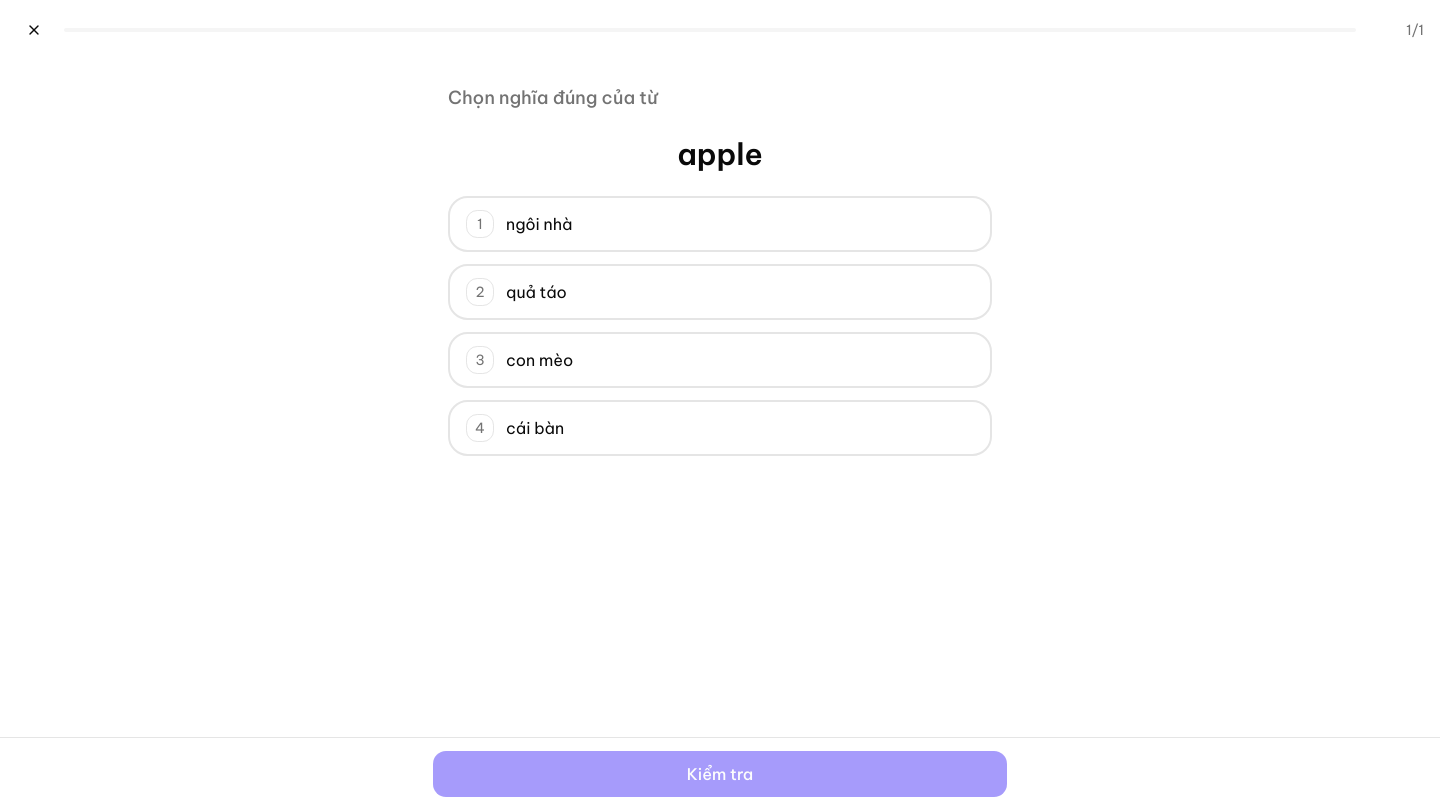
finishing › plays the wrong sound and keeps the right answer on screen
The width and height of the screenshot is (1440, 810).
Click the radio button labelled "3 con mèo". click: (540, 360)
box: x1=448 y1=332 x2=992 y2=388
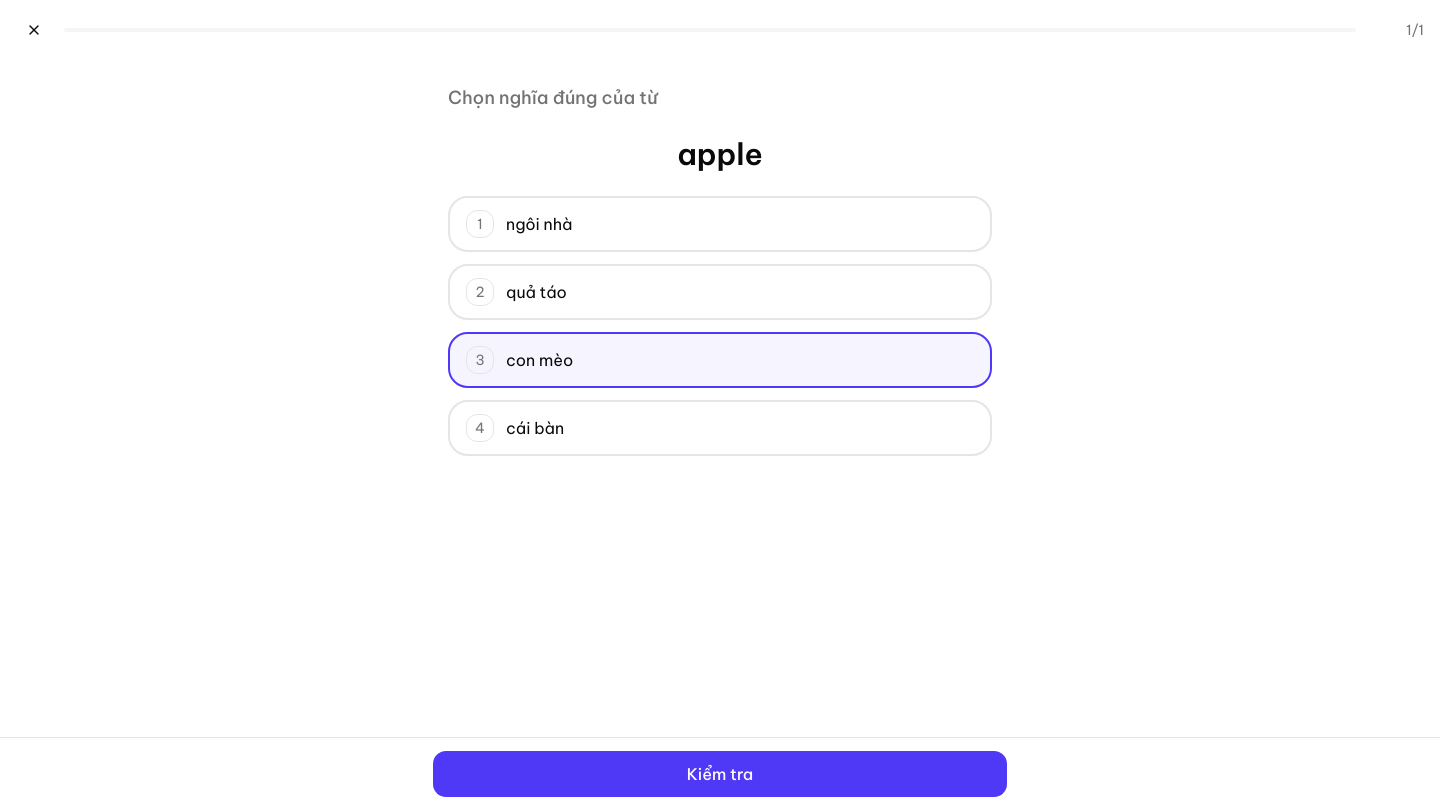
Click the button "Kiểm tra". click: (720, 774)
box: x1=432 y1=750 x2=1008 y2=798
Wait 4000 ms
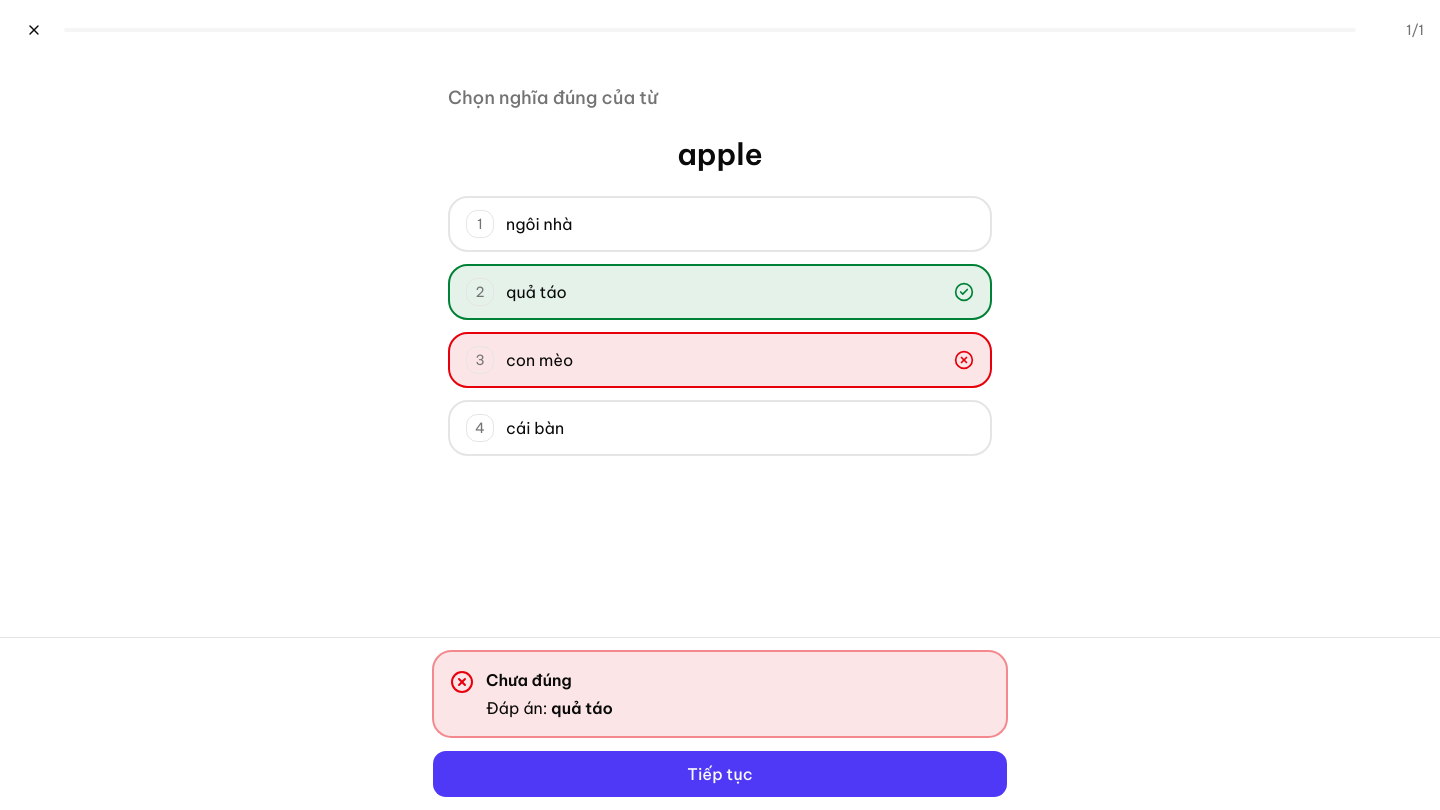
Now the text "Chưa đúng" is shown, box x1=486 y1=670 x2=572 y2=690
